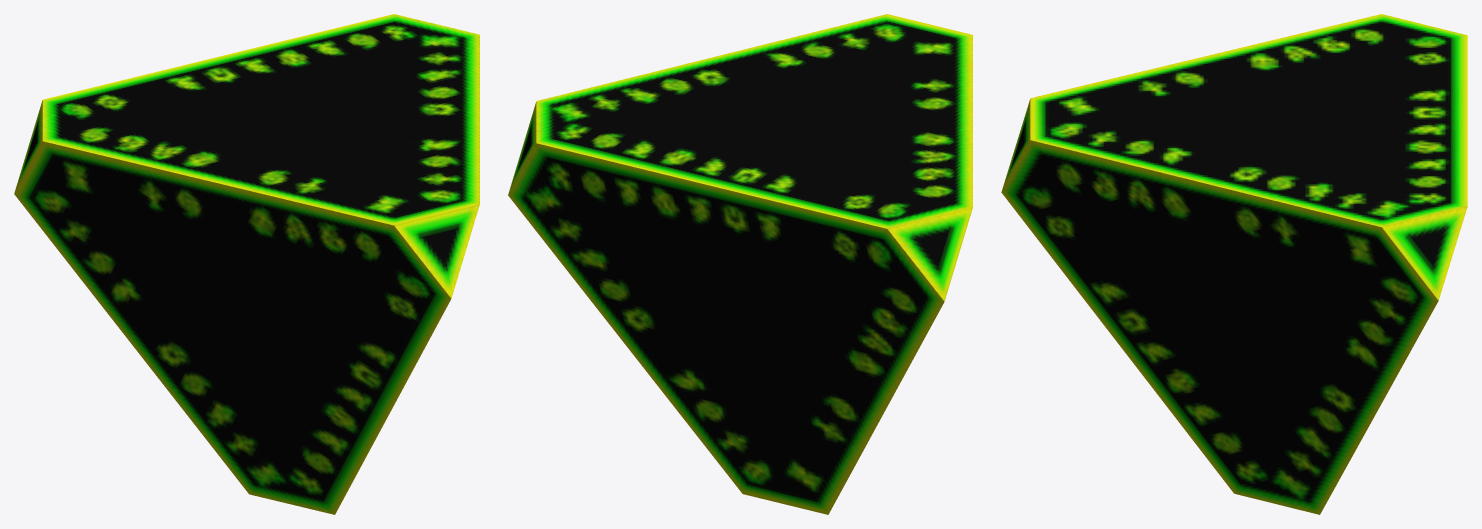
The model's file is Fire_Core.fbx.
The picture shows the model from 3 angles, left to right: view 1: azimuth 30°, elevation 25°; view 2: azimuth 150°, elevation 25°; view 3: azimuth 270°, elevation 25°; orthographic projection.
Visible parts, largest first — view 1: SkillObj_ElectricPillar_Core_Model; view 2: SkillObj_ElectricPillar_Core_Model; view 3: SkillObj_ElectricPillar_Core_Model.
Boxes of the visible parts, x1=… form: SkillObj_ElectricPillar_Core_Model: x1=14, y1=14, x2=479, y2=514; SkillObj_ElectricPillar_Core_Model: x1=508, y1=14, x2=972, y2=514; SkillObj_ElectricPillar_Core_Model: x1=1001, y1=14, x2=1467, y2=514.
Bounding box in the file's own units: 0.4287 × 0.3511 × 0.3958.
Materials: 1 (1 with a texture image).
